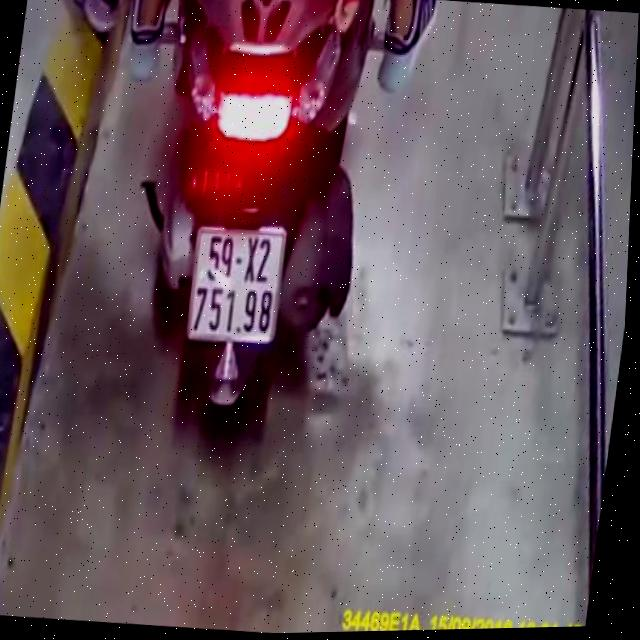motorcycle: (104, 0, 400, 456)
plate: (177, 217, 292, 350)
